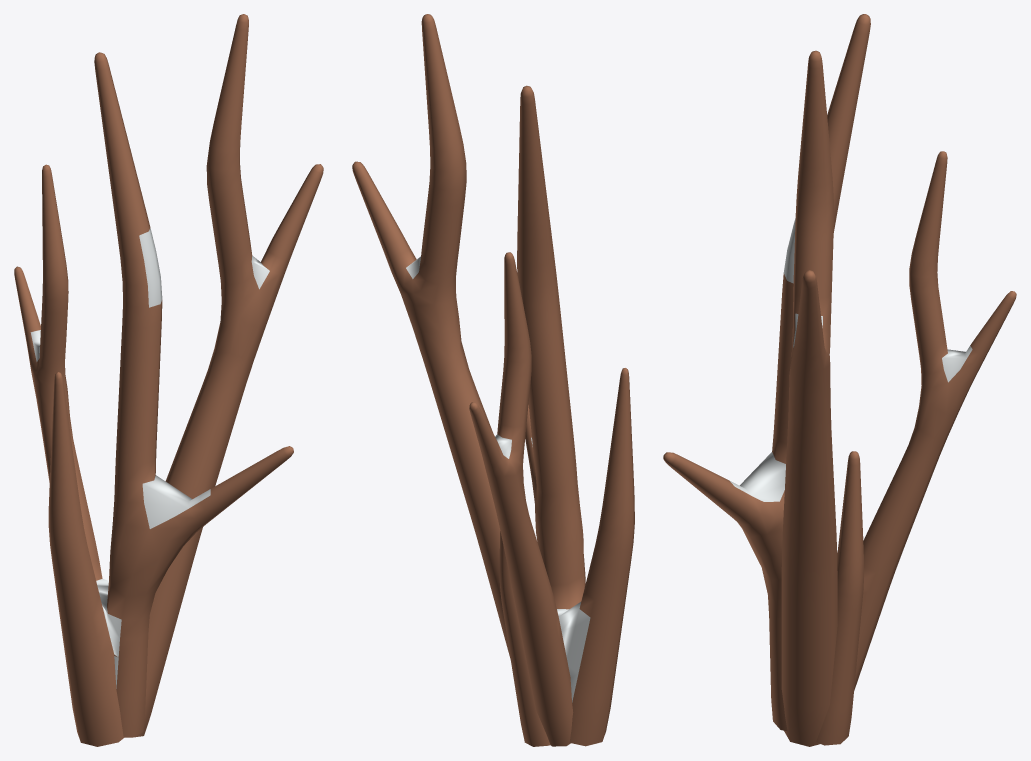
File: Tree Bush 2.fbx
3 renders of one model, left to right at view 1: azimuth 30°, elevation 25°; view 2: azimuth 150°, elevation 25°; view 3: azimuth 270°, elevation 25°, orthographic. The views are drawn at different scales.
Parts seen in each view (by area): view 1: Tree Bush 2; view 2: Tree Bush 2; view 3: Tree Bush 2.
Boxes of the visible parts, x1,y1,x2,y2 form: Tree Bush 2: [14, 14, 323, 746]; Tree Bush 2: [352, 14, 634, 746]; Tree Bush 2: [663, 14, 1016, 746].
Bounding box in the file's own units: 100 × 240 × 102.
